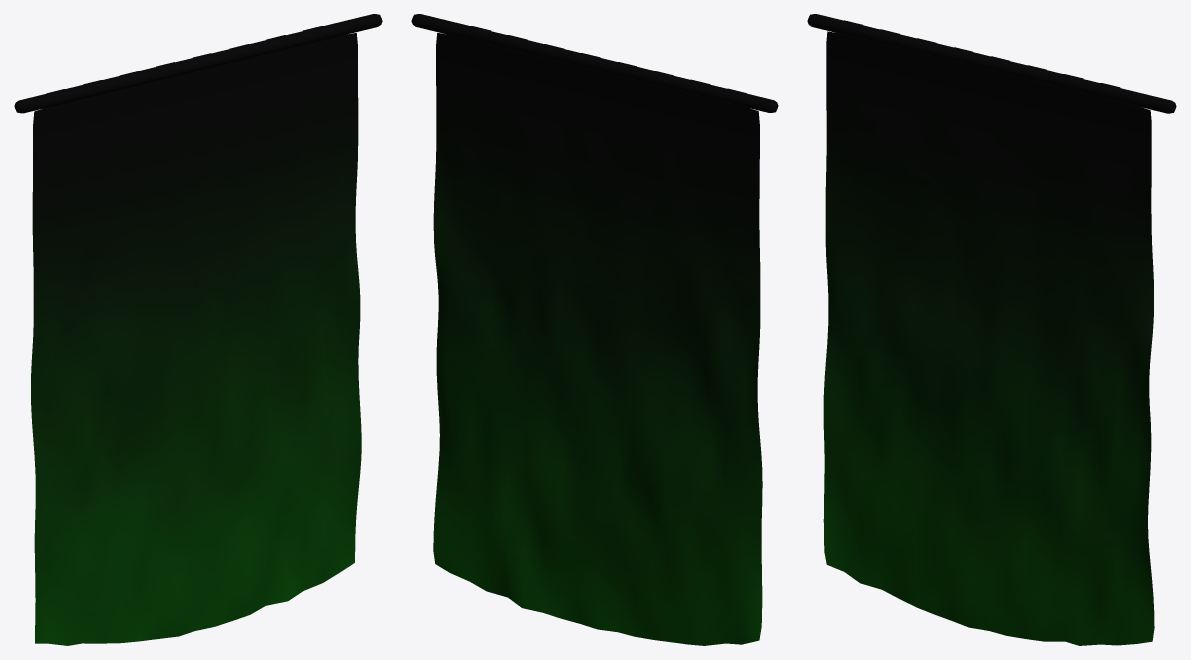
The model's file is SM_CurtainBasicA.fbx.
3 renders of one model, left to right at view 1: azimuth 30°, elevation 25°; view 2: azimuth 150°, elevation 25°; view 3: azimuth 330°, elevation 25°, orthographic.
Visible parts, largest first — view 1: SM_CurtainBasicA; view 2: SM_CurtainBasicA; view 3: SM_CurtainBasicA.
Part boxes in pixels (left/top/right/bottom): SM_CurtainBasicA: left=14, top=14, right=382, bottom=645; SM_CurtainBasicA: left=411, top=14, right=778, bottom=645; SM_CurtainBasicA: left=807, top=14, right=1176, bottom=645.
Size of the model in its own units: 223 by 333 by 8.84.
